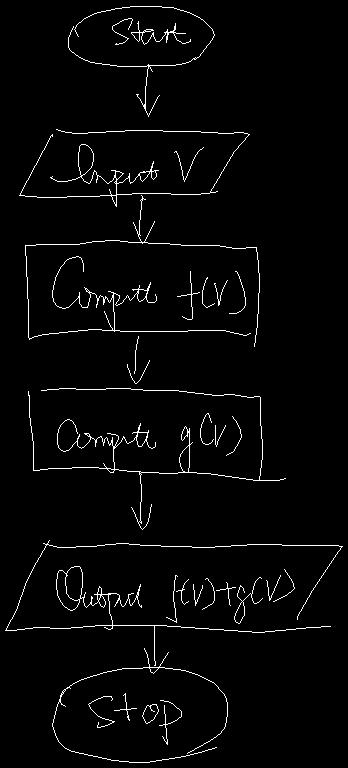arrow: (136, 64, 159, 116), (131, 472, 151, 529), (144, 626, 168, 673), (127, 336, 149, 383), (133, 195, 154, 243)
data: (5, 540, 342, 632), (19, 129, 249, 197)
process: (25, 240, 259, 346), (28, 388, 285, 480)
terminator: (52, 667, 227, 762), (68, 6, 214, 66)
text: (56, 566, 294, 629), (52, 256, 245, 331), (57, 413, 241, 472), (50, 144, 203, 206), (88, 693, 181, 744), (112, 18, 190, 44)
